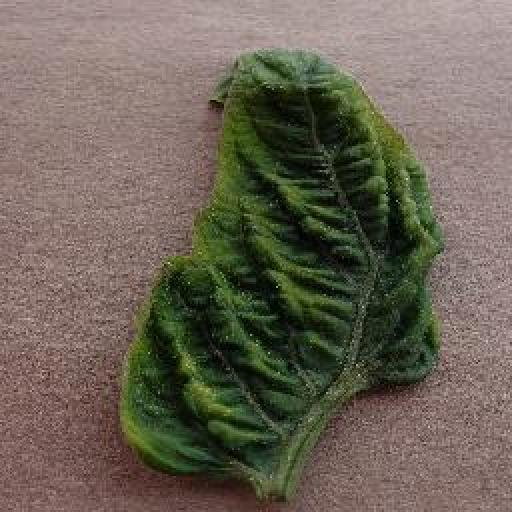disease_tomato: (114, 45, 440, 483)
